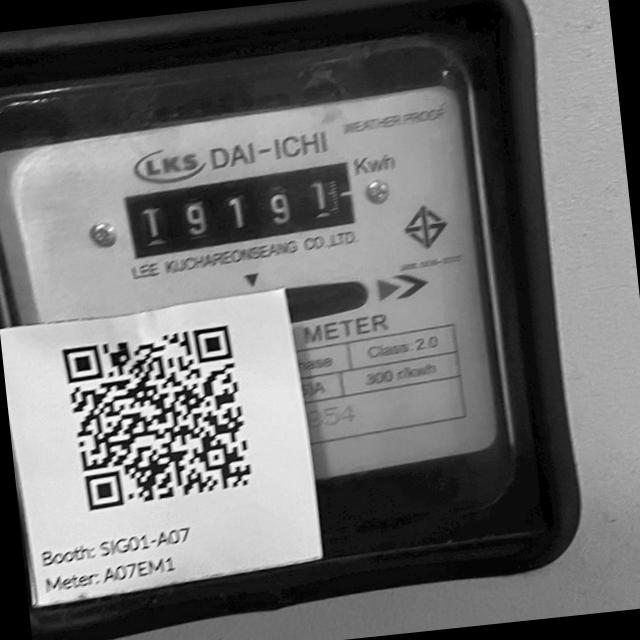qr_code: (58, 320, 256, 513)
